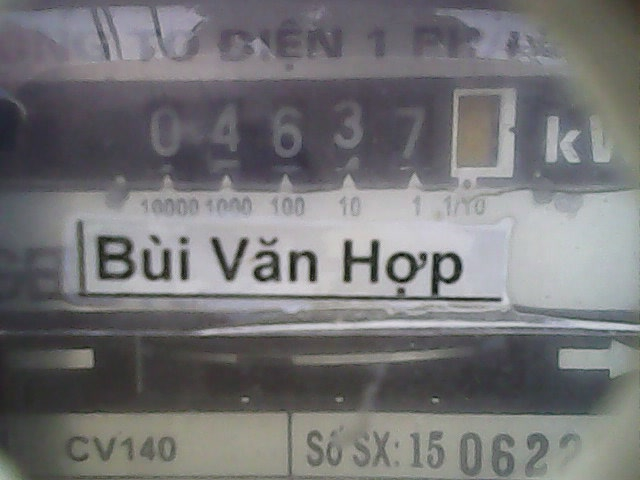phy_plate: (127, 80, 526, 184)
